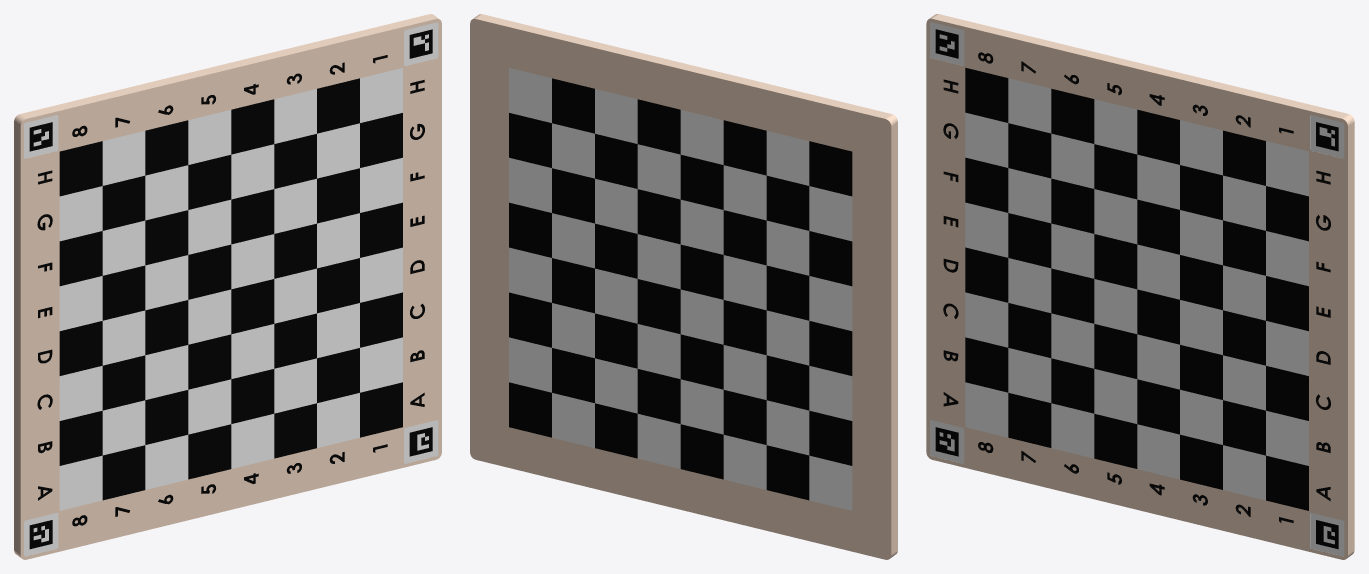
The model's file is chessboard.obj.
3 views of the same model, side by side, from view 1: azimuth 30°, elevation 25°; view 2: azimuth 150°, elevation 25°; view 3: azimuth 330°, elevation 25° (orthographic).
Visible parts, largest first — view 1: Split5[5]_321, Split5[5]_318, Split5[5]_319, Boss-Extrude3[13]_26, Boss-Extrude4[20]_104, Boss-Extrude3[12]_24, Boss-Extrude3[19]_38, Boss-Extrude3[29]_58, Boss-Extrude3[30]_60, Boss-Extrude4[10]_84, Boss-Extrude4[19]_102, Boss-Extrude4[22]_108 (+55 smaller); view 2: Split5[5]_321, Boss-Extrude3[13]_26, Boss-Extrude4[10]_84, Boss-Extrude4[25]_114, Boss-Extrude3[12]_24, Boss-Extrude3[30]_60, Boss-Extrude4[19]_102, Boss-Extrude4[20]_104, Boss-Extrude4[22]_108, Boss-Extrude4[26]_116, Boss-Extrude4[29]_122, Boss-Extrude3[1]_2 (+53 smaller); view 3: Split5[5]_321, Split5[5]_318, Split5[5]_319, Boss-Extrude3[1]_2, Boss-Extrude3[2]_4, Boss-Extrude3[3]_6, Boss-Extrude3[9]_18, Boss-Extrude3[10]_20, Boss-Extrude3[11]_22, Boss-Extrude4[1]_66, Boss-Extrude4[2]_68, Boss-Extrude4[9]_82 (+55 smaller).
Part boxes in pixels (x1,y1,x2,y2): Split5[5]_321: (14, 14, 441, 559); Split5[5]_318: (37, 55, 424, 526); Split5[5]_319: (24, 22, 438, 556); Boss-Extrude3[13]_26: (188, 379, 231, 434); Boss-Extrude4[20]_104: (188, 334, 231, 389); Boss-Extrude3[12]_24: (145, 165, 188, 220); Boss-Extrude3[19]_38: (188, 289, 231, 344); Boss-Extrude3[29]_58: (231, 234, 274, 289); Boss-Extrude3[30]_60: (231, 144, 274, 199); Boss-Extrude4[10]_84: (188, 424, 231, 479); Boss-Extrude4[19]_102: (231, 279, 274, 334); Boss-Extrude4[22]_108: (145, 210, 188, 265); Split5[5]_321: (470, 14, 897, 559); Boss-Extrude3[13]_26: (680, 379, 723, 434); Boss-Extrude4[10]_84: (680, 424, 723, 479); Boss-Extrude4[25]_114: (723, 120, 766, 175); Boss-Extrude3[12]_24: (723, 165, 766, 220); Boss-Extrude3[30]_60: (637, 144, 680, 199); Boss-Extrude4[19]_102: (637, 279, 680, 334); Boss-Extrude4[20]_104: (680, 334, 723, 389); Boss-Extrude4[22]_108: (723, 210, 766, 265); Boss-Extrude4[26]_116: (637, 189, 680, 244); Boss-Extrude4[29]_122: (637, 99, 680, 154); Boss-Extrude3[1]_2: (809, 455, 852, 510); Split5[5]_321: (926, 14, 1354, 559); Split5[5]_318: (943, 52, 1330, 522); Split5[5]_319: (930, 22, 1344, 556); Boss-Extrude3[1]_2: (965, 382, 1008, 437); Boss-Extrude3[2]_4: (965, 292, 1008, 347); Boss-Extrude3[3]_6: (965, 202, 1008, 257); Boss-Extrude3[9]_18: (1051, 403, 1094, 458); Boss-Extrude3[10]_20: (1051, 313, 1094, 368); Boss-Extrude3[11]_22: (1051, 223, 1094, 278); Boss-Extrude4[1]_66: (965, 337, 1008, 392); Boss-Extrude4[2]_68: (965, 247, 1008, 302); Boss-Extrude4[9]_82: (1051, 358, 1094, 413).
Size of the model in its own units: 0.368 by 0.368 by 0.01.
